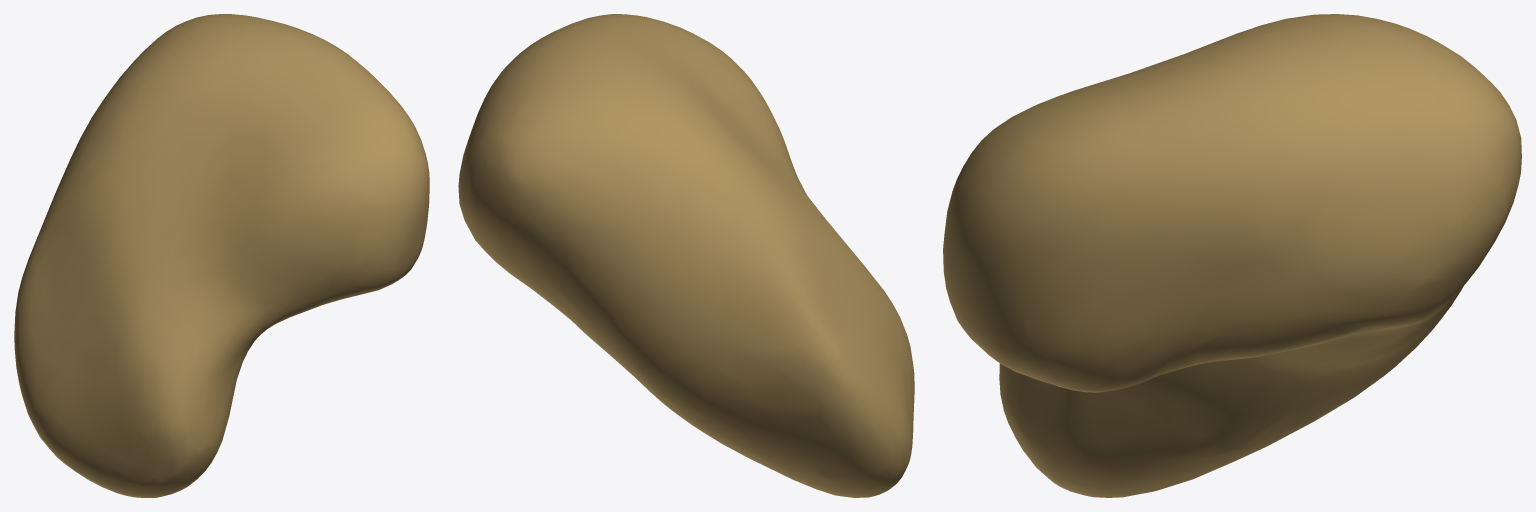
The picture shows the model from 3 angles, left to right: view 1: azimuth 30°, elevation 25°; view 2: azimuth 150°, elevation 25°; view 3: azimuth 270°, elevation 25°; orthographic projection. The views are drawn at different scales.
Visible parts, largest first — view 1: 右侧小脑扁桃体; view 2: 右侧小脑扁桃体; view 3: 右侧小脑扁桃体.
Boxes of the visible parts, x1=… form: 右侧小脑扁桃体: x1=14, y1=14, x2=429, y2=497; 右侧小脑扁桃体: x1=458, y1=14, x2=914, y2=497; 右侧小脑扁桃体: x1=943, y1=14, x2=1521, y2=497.
Bounding box in the file's own units: 0.0321 × 0.033 × 0.0301.
